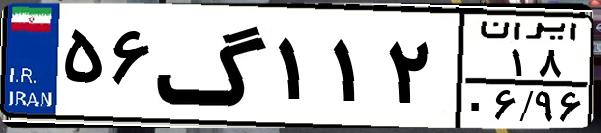0: (470, 70, 495, 125)
1: (270, 28, 330, 110), (330, 28, 385, 110), (508, 27, 537, 80)
2: (385, 28, 445, 110)
5: (57, 26, 110, 100)
6: (110, 28, 156, 98), (560, 70, 590, 125), (495, 70, 520, 125)
8: (537, 27, 568, 80)
9: (535, 70, 560, 125)
گ: (156, 12, 270, 120)
